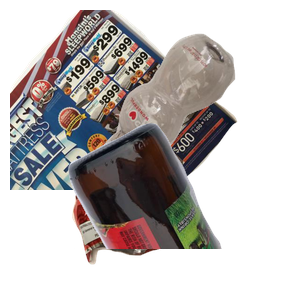glass: (66, 120, 300, 300)
paper: (10, 10, 240, 190)
plastic: (99, 31, 300, 189)
trash: (70, 162, 257, 300)
